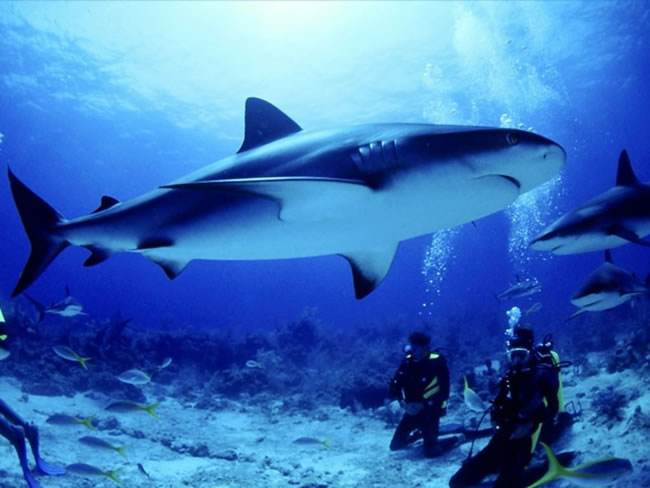shark: (8, 85, 568, 295)
